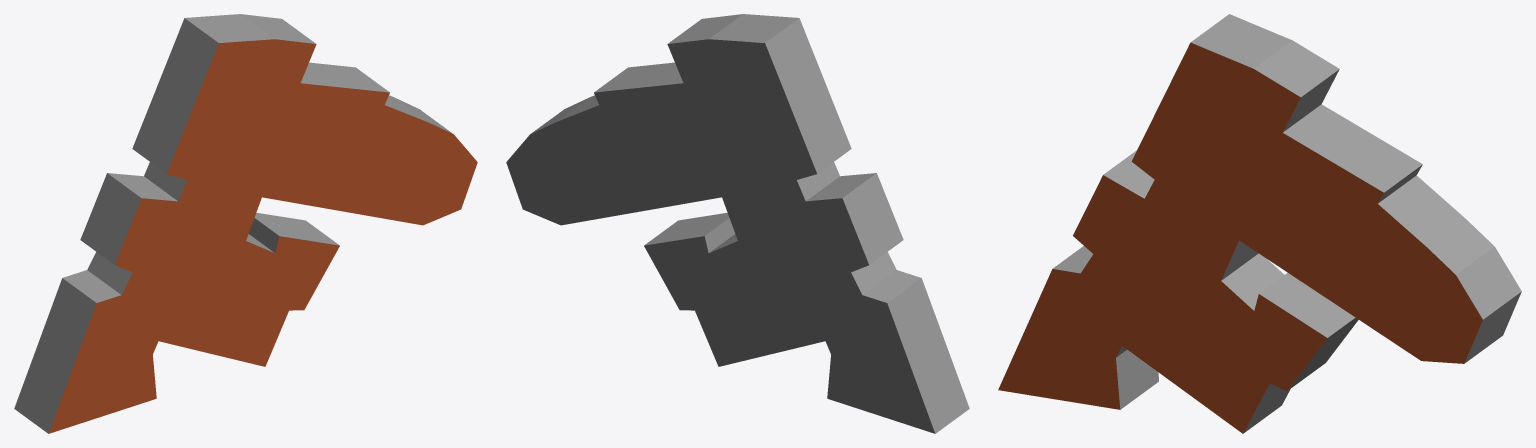
File: construction_6583_assumed_A_Casa_h6m.obj
3 views of the same model, side by side, from view 1: azimuth 30°, elevation 25°; view 2: azimuth 150°, elevation 25°; view 3: azimuth 330°, elevation 25° (orthographic). The views are drawn at different scales.
Visible parts, largest first — view 1: construction_6583_assumed_A_Casa; view 2: construction_6583_assumed_A_Casa; view 3: construction_6583_assumed_A_Casa.
Boxes of the visible parts, x1,y1,x2,y2 form: construction_6583_assumed_A_Casa: [14, 14, 477, 433]; construction_6583_assumed_A_Casa: [506, 14, 969, 433]; construction_6583_assumed_A_Casa: [998, 14, 1521, 433].
Bounding box in the file's own units: 43.21 × 33.6 × 6.
